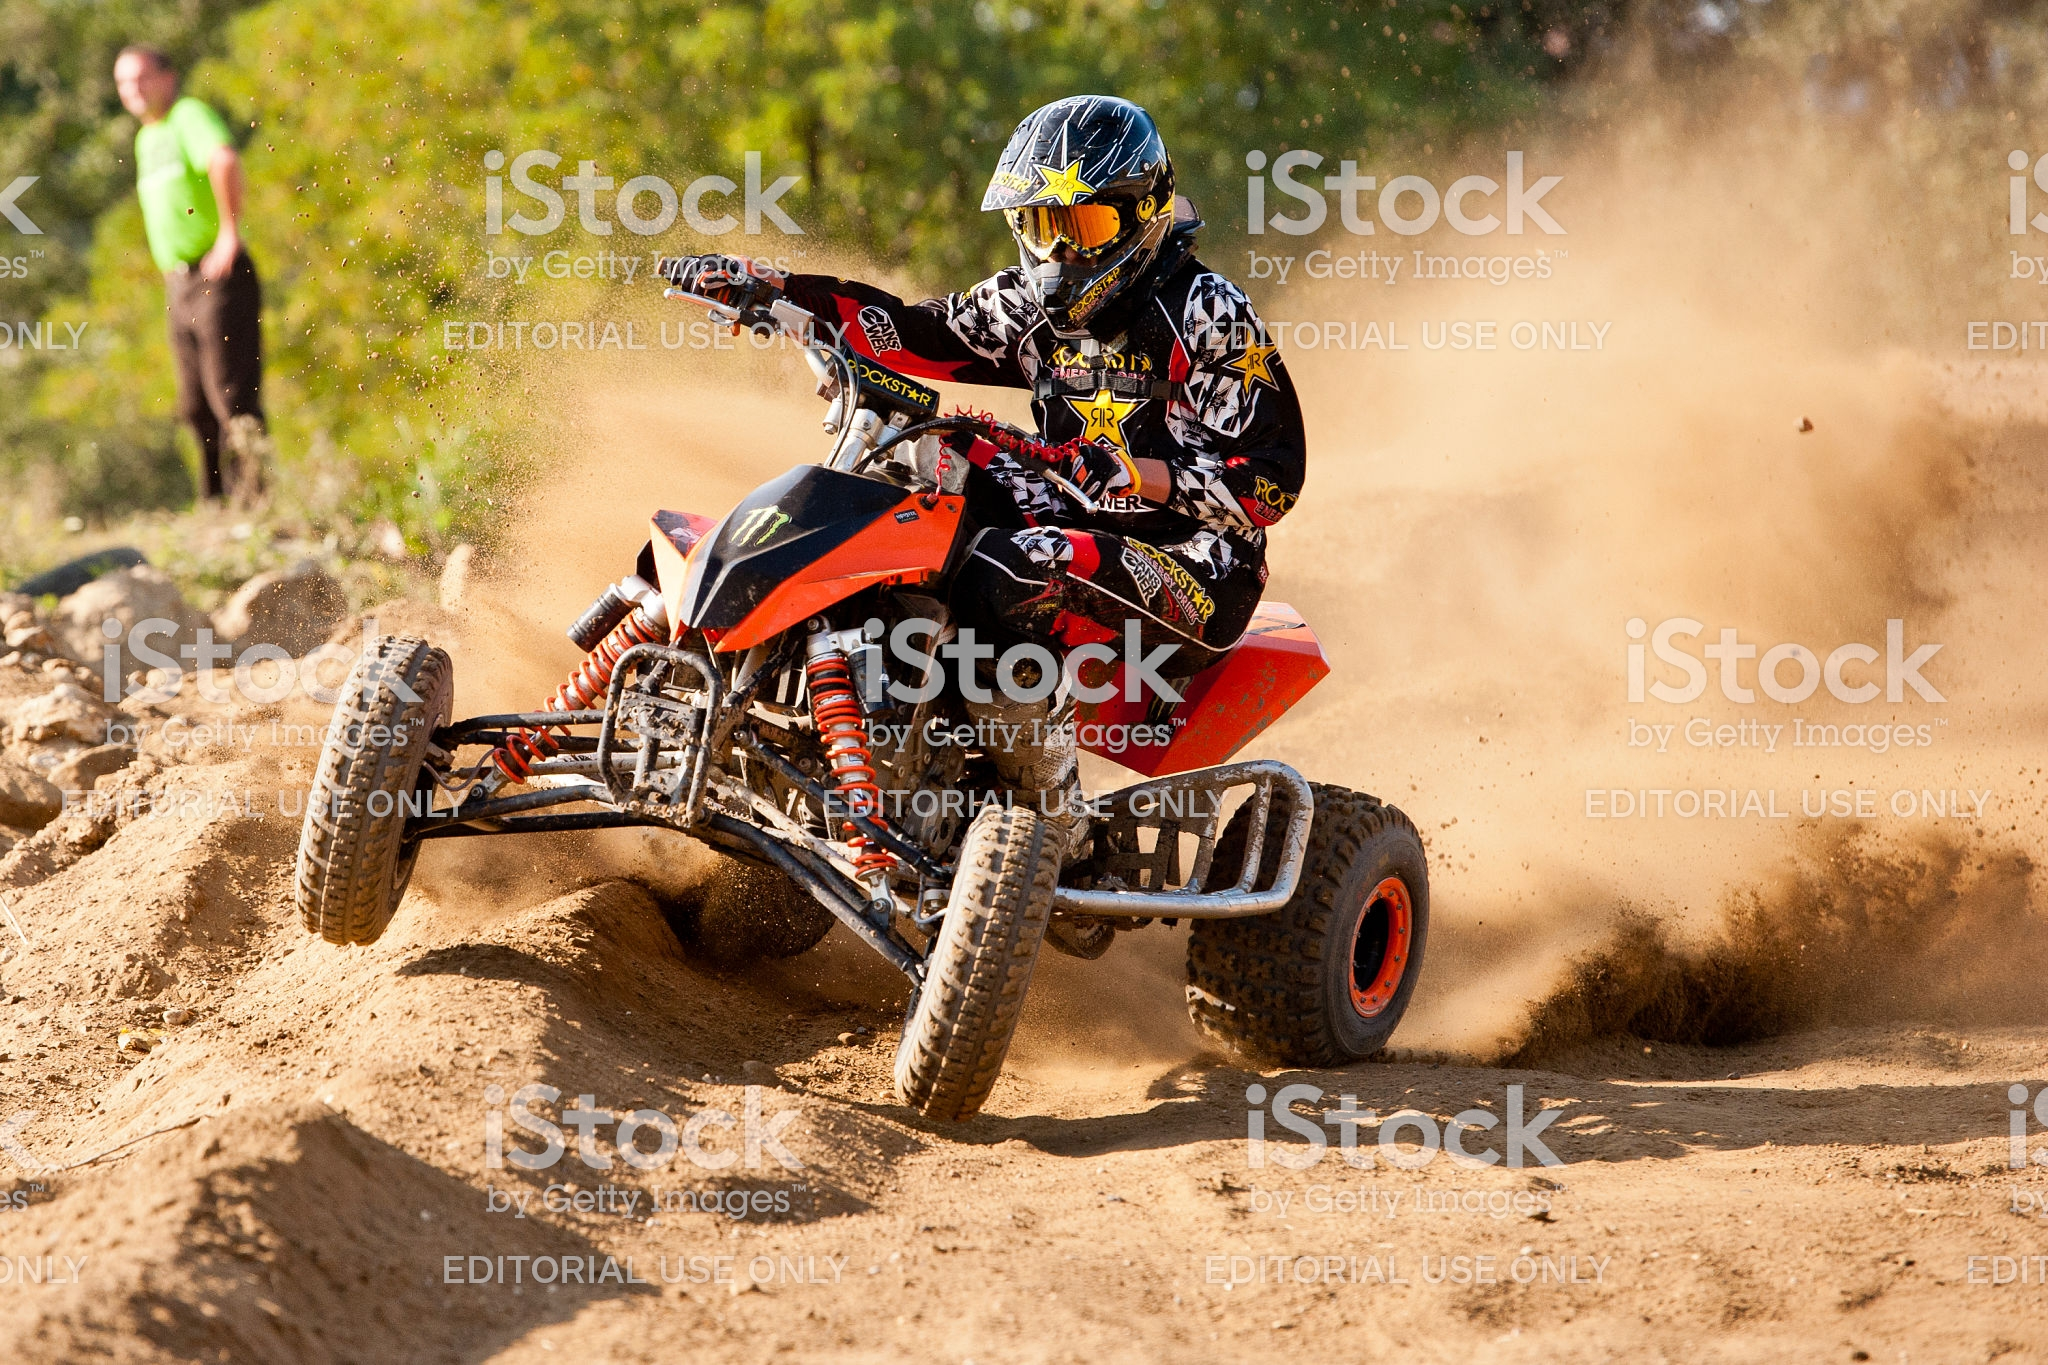helmet: (987, 94, 1192, 321)
